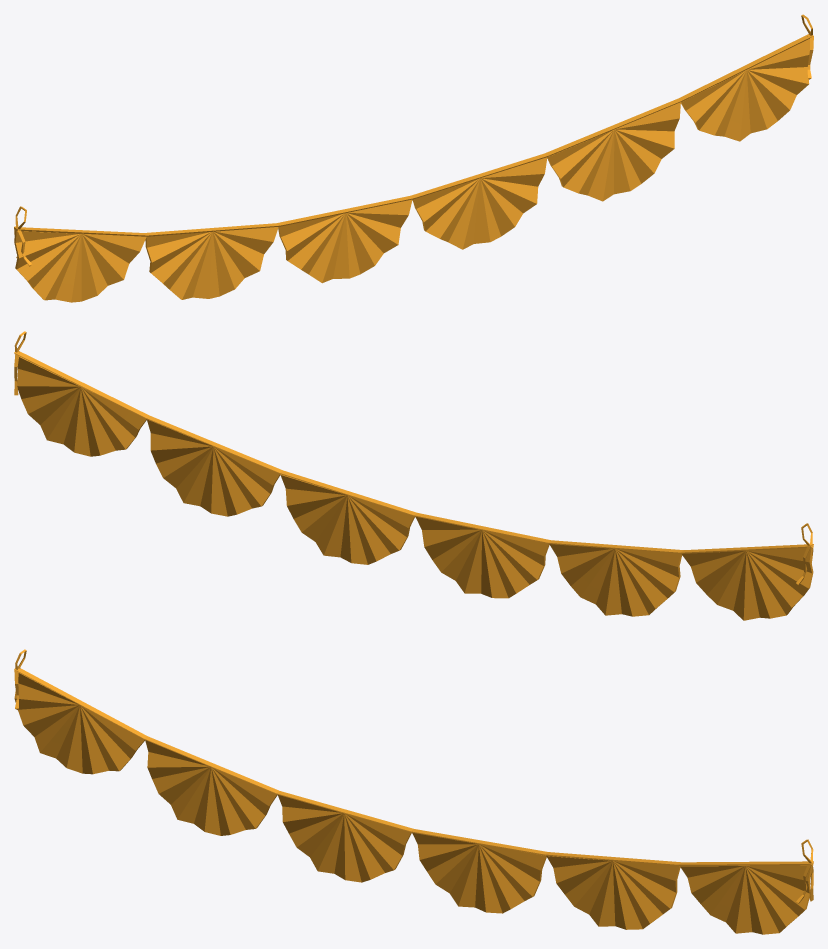
Rendered from SM_Garland_Round_3m_4july.fbx.
The picture shows the model from 3 angles, top to bottom: view 1: azimuth 30°, elevation 25°; view 2: azimuth 150°, elevation 25°; view 3: azimuth 330°, elevation 25°; orthographic projection.
Parts seen in each view (by area): view 1: garland-round-3m-4july; view 2: garland-round-3m-4july; view 3: garland-round-3m-4july.
Boxes of the visible parts, box(x1,y1,x2,y2) form: garland-round-3m-4july: box(14, 14, 813, 302); garland-round-3m-4july: box(14, 331, 813, 620); garland-round-3m-4july: box(14, 649, 813, 934).
Size of the model in its own units: 3 by 0.5406 by 0.092.
